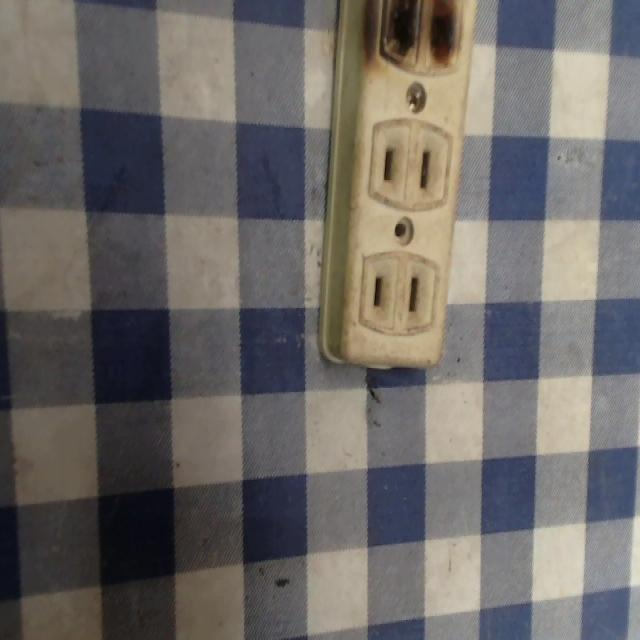-: (371, 0, 469, 75)
